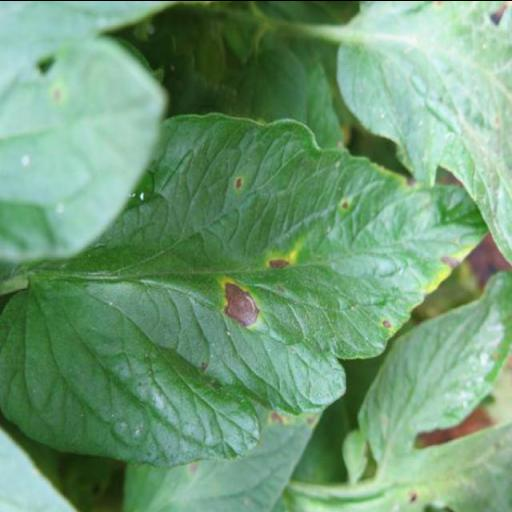Early Blight: (0, 111, 483, 465)
